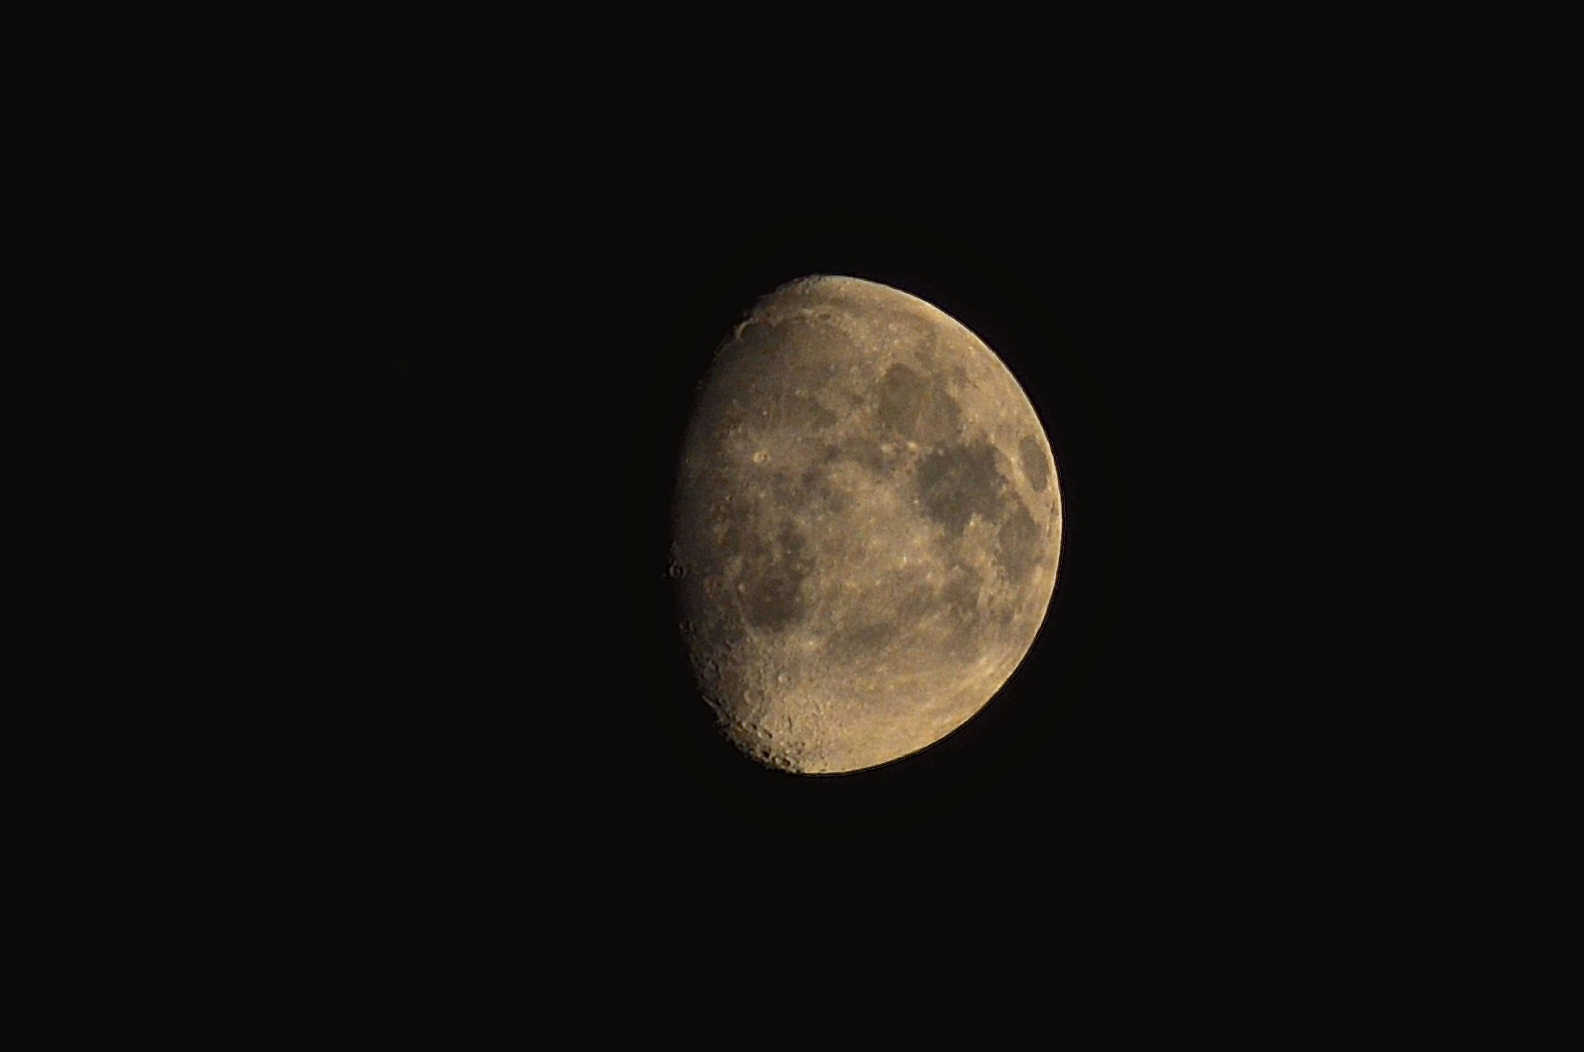crater: (860, 560, 905, 606), (736, 433, 784, 472), (768, 661, 816, 699), (941, 640, 969, 667), (868, 433, 894, 461), (668, 558, 693, 587), (735, 576, 762, 599), (904, 434, 932, 456), (756, 724, 780, 746), (810, 507, 829, 531), (906, 493, 926, 512), (793, 430, 810, 449)
